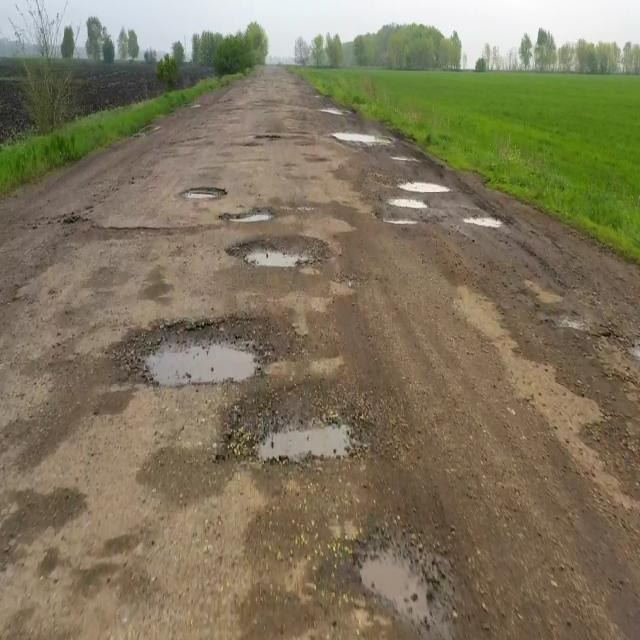road-pothole: (129, 322, 260, 391), (354, 536, 433, 626), (244, 416, 361, 475), (244, 243, 304, 275), (380, 196, 433, 227), (335, 131, 389, 149), (229, 208, 274, 227), (182, 185, 224, 204), (402, 177, 450, 191), (464, 214, 505, 230)
